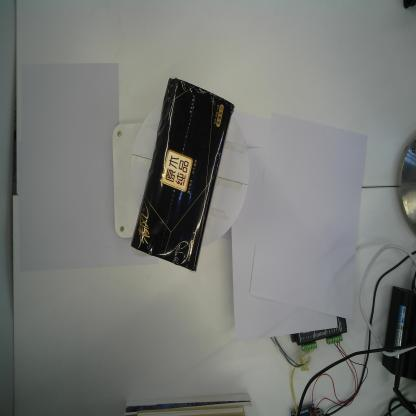Tissue: (129, 77, 235, 275)
